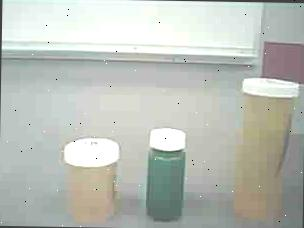Bottle A: (231, 71, 298, 228)
Bottle B: (56, 133, 124, 227)
Bottle C: (142, 124, 198, 227)
